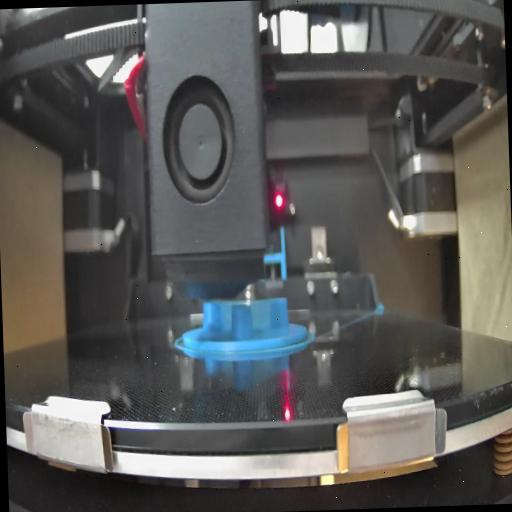stringing: (252, 296, 278, 330), (218, 304, 234, 338)
